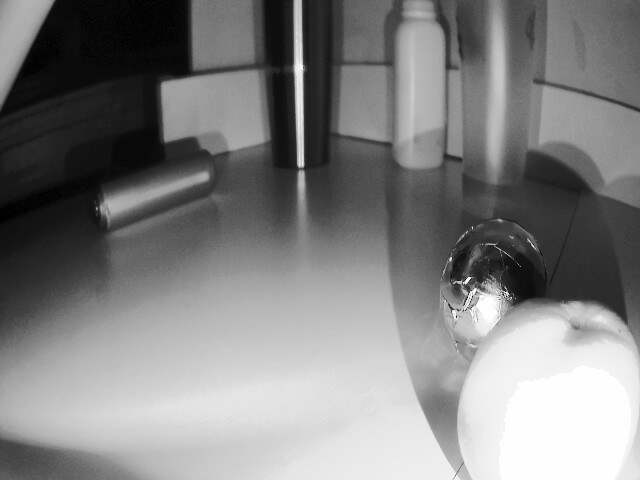black: (438, 217, 545, 347)
